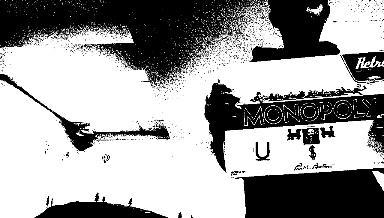U: (252, 140, 271, 157)
